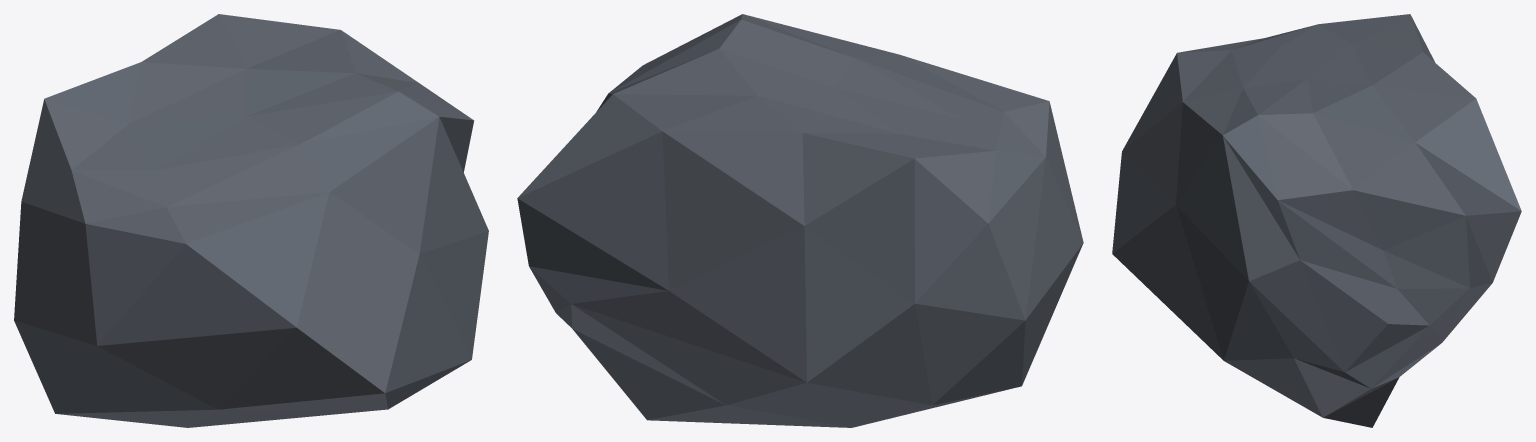
File: Rock_5.fbx
The picture shows the model from 3 angles, left to right: view 1: azimuth 30°, elevation 25°; view 2: azimuth 150°, elevation 25°; view 3: azimuth 270°, elevation 25°; orthographic projection. The views are drawn at different scales.
Visible parts, largest first — view 1: Rock_5; view 2: Rock_5; view 3: Rock_5.
Boxes of the visible parts, box(x1,y1,x2,y2) form: Rock_5: box(14, 14, 488, 427); Rock_5: box(517, 14, 1083, 427); Rock_5: box(1112, 14, 1521, 427).
Bounding box in the file's own units: 73.77 × 58.79 × 72.28.
